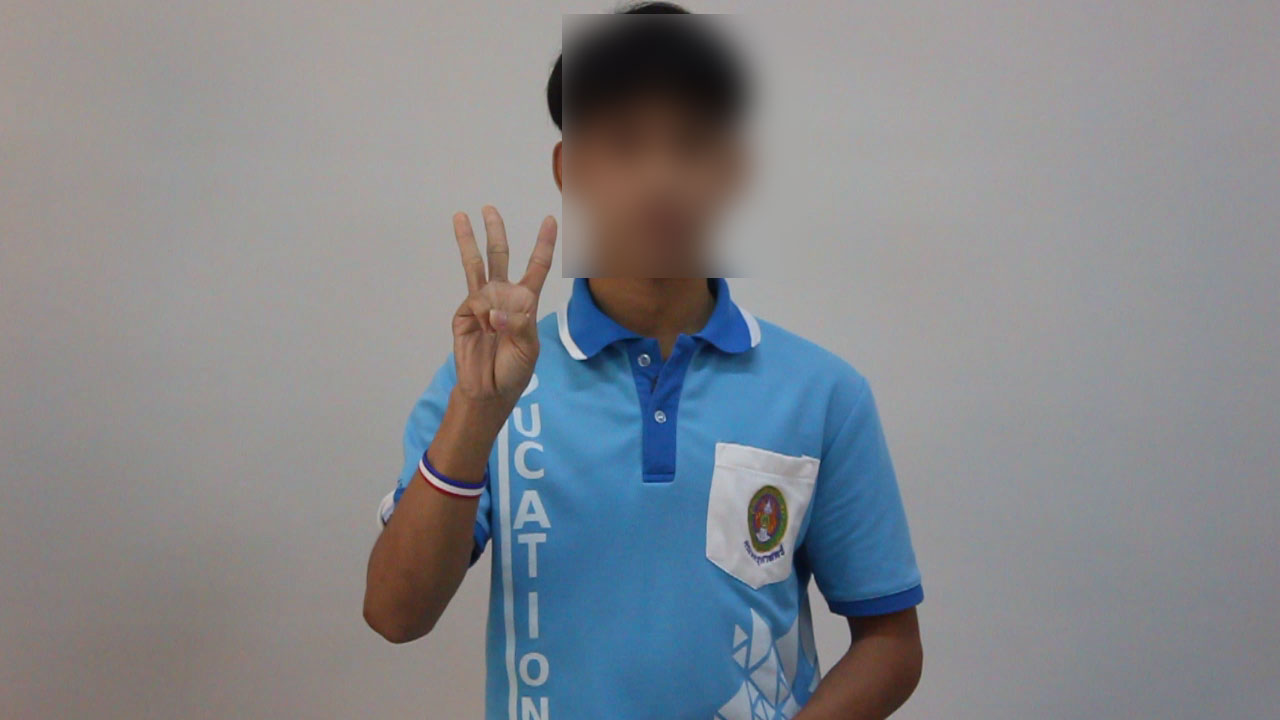wor: (441, 195, 562, 417)
